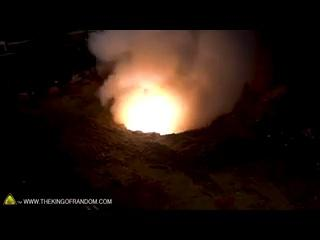Fire: (115, 75, 191, 129)
